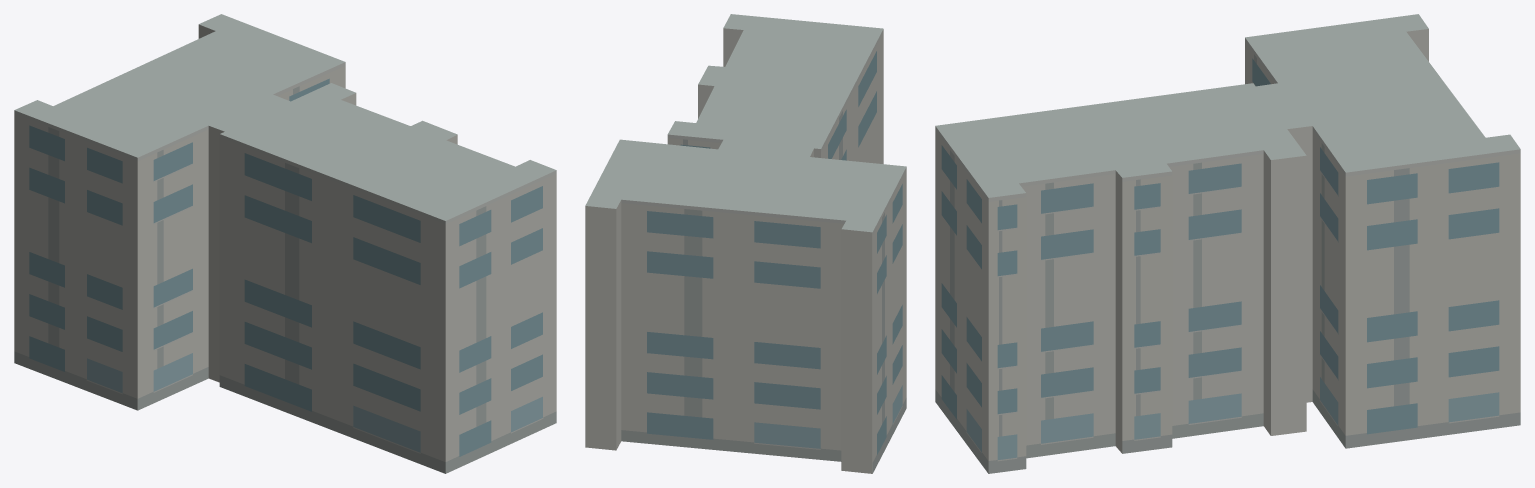
The model's file is survey-upis-32622387.glb.
The picture shows the model from 3 angles, left to right: view 1: azimuth 30°, elevation 25°; view 2: azimuth 150°, elevation 25°; view 3: azimuth 270°, elevation 25°; orthographic projection. The views are drawn at different scales.
Visible parts, largest first — view 1: survey-upis-32622387.tmp; view 2: survey-upis-32622387.tmp; view 3: survey-upis-32622387.tmp.
Boxes of the visible parts, bbox=[...] form: survey-upis-32622387.tmp: bbox=[14, 14, 556, 473]; survey-upis-32622387.tmp: bbox=[585, 14, 906, 473]; survey-upis-32622387.tmp: bbox=[935, 14, 1520, 473].
Bounding box in the file's own units: 24.74 × 17.3 × 33.27.
